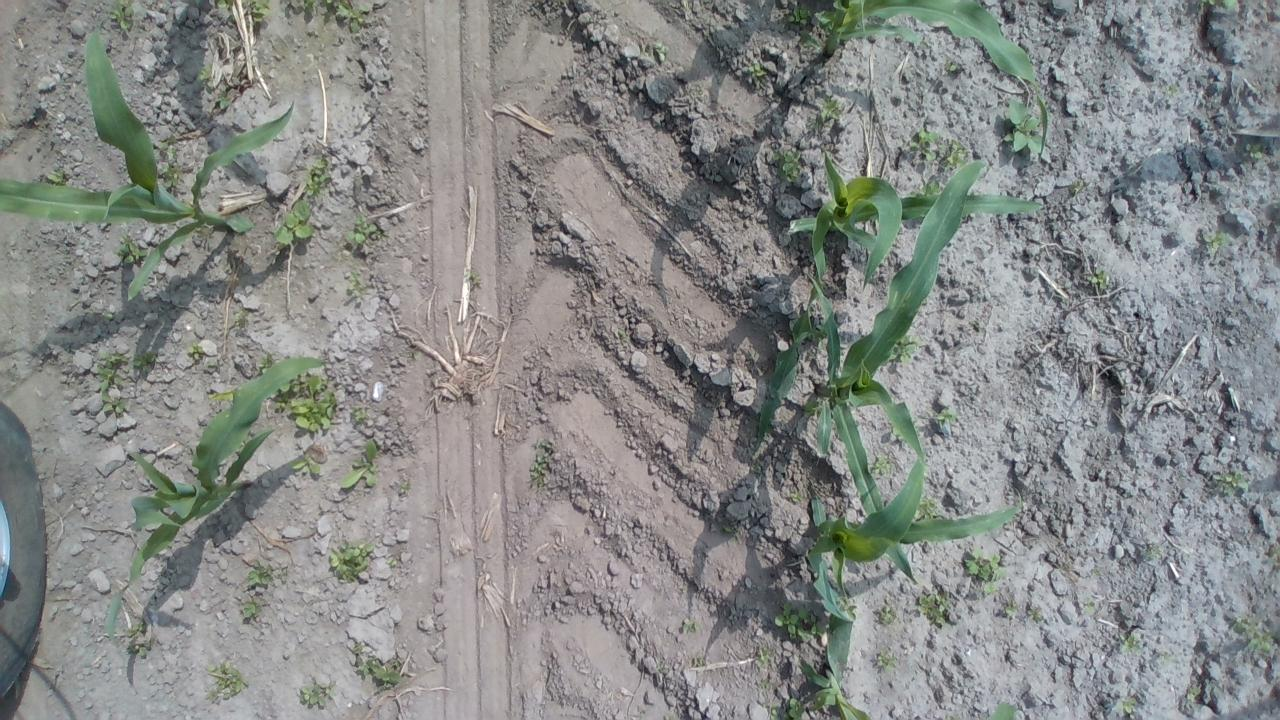Maize: (752, 157, 989, 582), (2, 25, 316, 300), (94, 346, 348, 656), (756, 446, 1050, 622), (772, 149, 1051, 285), (771, 612, 1022, 720), (796, 0, 1052, 90)
Weeds: (290, 373, 340, 435), (999, 100, 1049, 162), (292, 0, 373, 34), (904, 127, 964, 170), (327, 538, 383, 582), (352, 645, 408, 685), (342, 438, 382, 494), (1228, 610, 1276, 652), (235, 558, 293, 592), (272, 200, 314, 246), (772, 605, 822, 641), (200, 66, 236, 116), (959, 544, 1001, 586), (204, 660, 250, 698), (912, 586, 958, 624), (777, 688, 835, 718), (95, 346, 132, 391), (304, 156, 341, 200), (344, 214, 386, 251), (214, 0, 275, 25), (771, 148, 812, 185), (524, 436, 556, 482), (156, 141, 185, 190), (292, 674, 336, 706), (810, 94, 851, 128), (97, 390, 135, 426), (1212, 462, 1248, 499), (113, 235, 153, 268), (884, 331, 924, 364), (283, 452, 329, 480), (124, 618, 154, 660), (1200, 227, 1234, 262), (237, 594, 275, 621), (931, 400, 959, 435), (107, 3, 139, 32), (130, 346, 156, 380), (338, 272, 371, 298), (1115, 693, 1147, 716), (1114, 628, 1142, 654), (1178, 678, 1206, 704), (1192, 0, 1240, 14), (1086, 266, 1114, 290), (868, 455, 896, 479), (789, 4, 816, 28), (347, 401, 371, 428), (1243, 137, 1264, 166), (874, 601, 896, 628), (719, 522, 746, 543), (746, 61, 768, 86), (43, 169, 75, 186), (1140, 543, 1162, 566), (680, 618, 705, 638), (942, 57, 968, 75), (750, 646, 771, 668), (874, 652, 898, 670), (394, 475, 414, 496), (650, 42, 669, 63), (188, 342, 206, 364), (464, 266, 482, 288), (1024, 609, 1044, 628), (612, 328, 630, 349), (382, 552, 400, 572), (656, 659, 676, 676), (764, 703, 782, 720), (786, 488, 804, 504), (1067, 178, 1087, 192), (1080, 595, 1096, 611), (756, 678, 774, 692), (1000, 606, 1019, 618), (689, 656, 708, 668), (981, 583, 996, 593)
